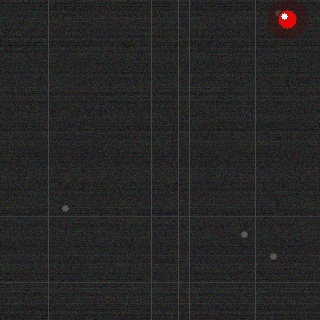red_fault: (276, 8, 298, 30)
